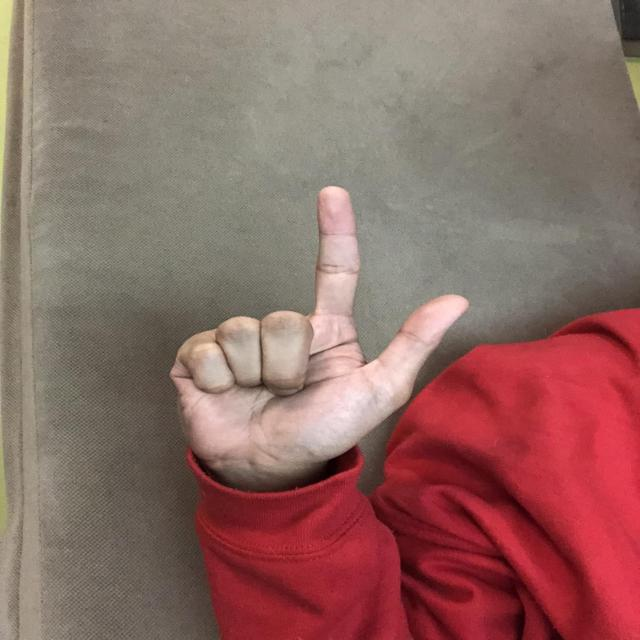L: (166, 183, 472, 474)
